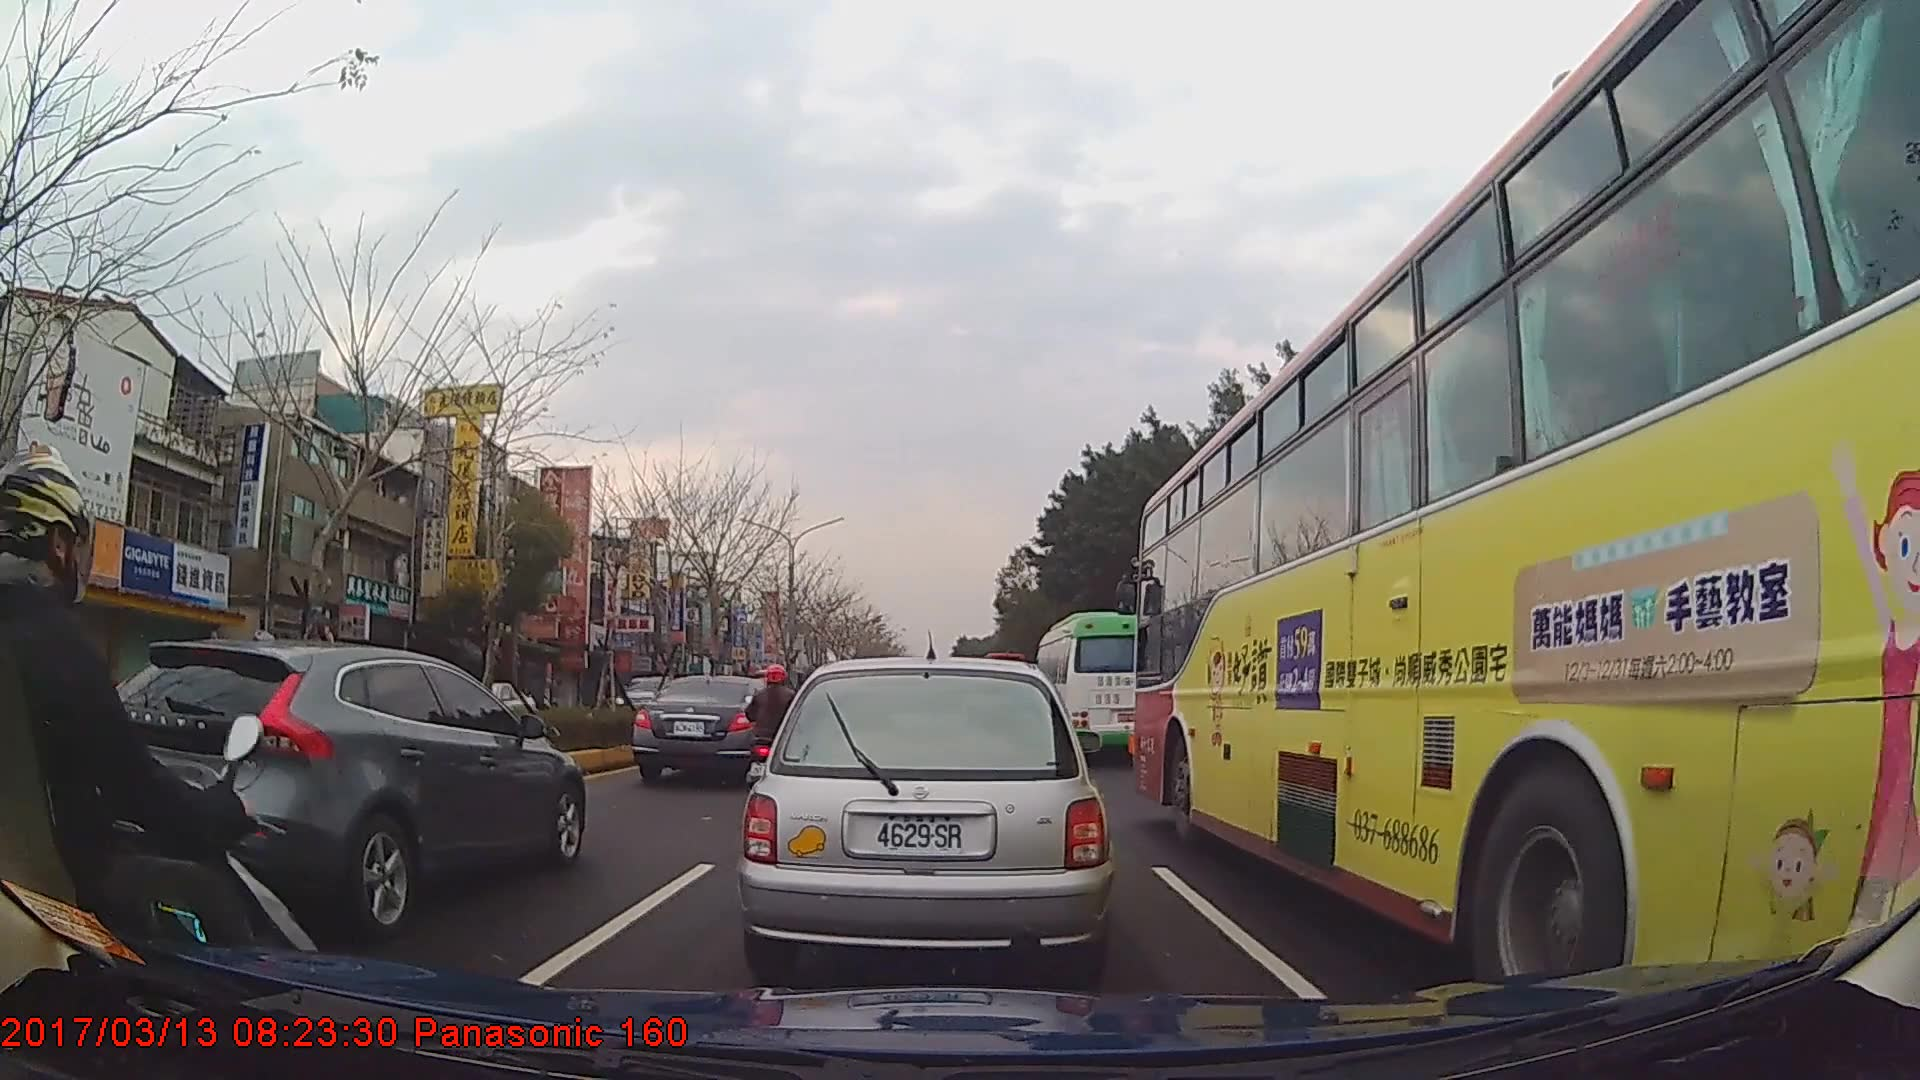rider: (1, 451, 336, 1018), (746, 664, 806, 802)
vehicle: (1132, 0, 1920, 1029), (90, 635, 585, 924), (736, 652, 1111, 980), (1032, 609, 1167, 768), (633, 673, 791, 787), (446, 679, 532, 731)
